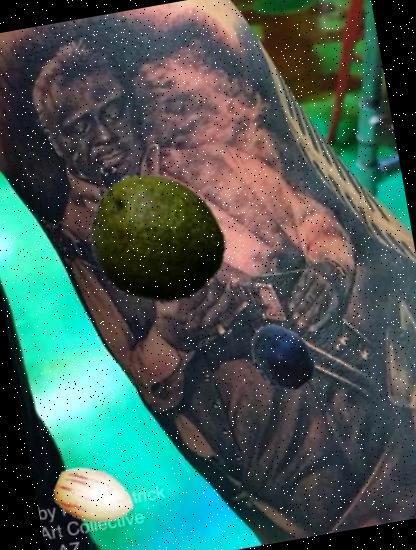Avocado: (74, 158, 235, 318)
Blueberry: (240, 315, 323, 398)
Pepino: (48, 450, 141, 542)
